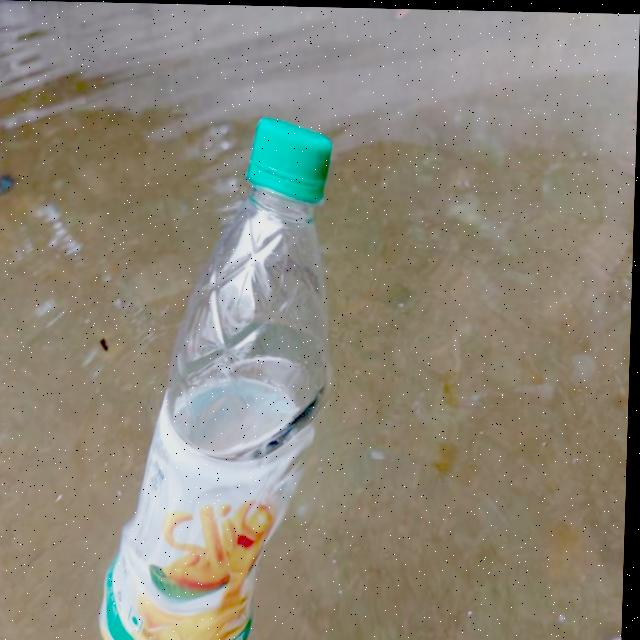waterbottle: (111, 108, 350, 640)
